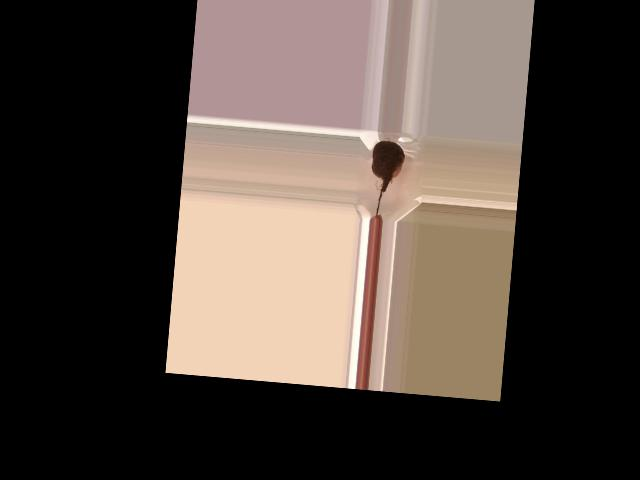beet: (367, 140, 406, 219)
